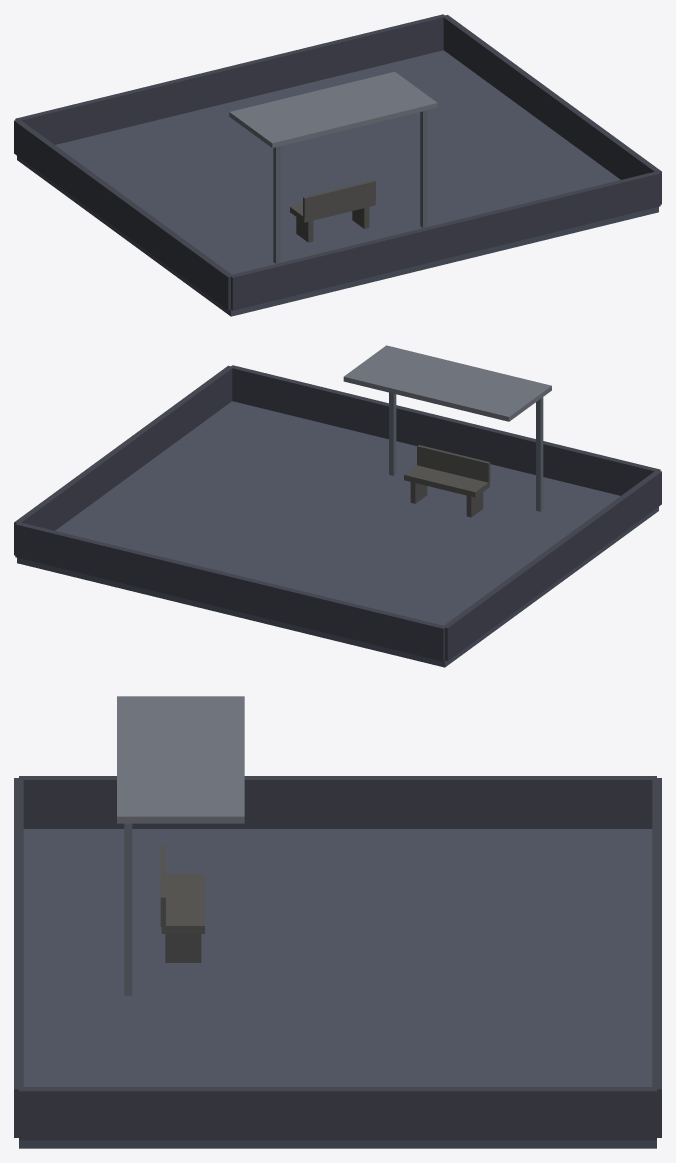
The model's file is paradaNocturna.obj.
The picture shows the model from 3 angles, top to bottom: view 1: azimuth 30°, elevation 25°; view 2: azimuth 150°, elevation 25°; view 3: azimuth 270°, elevation 25°; orthographic projection. The views are drawn at different scales.
Parts seen in each view (by area): view 1: paradaNocturna_c2_9, paradaNocturna_c2_13, paradaNocturna_c2_11, paradaNocturna_c2_10, paradaNocturna_c2_18, paradaNocturna_c2_12, paradaNocturna_c2_15, paradaNocturna_c2_20, paradaNocturna_c2_19, paradaNocturna_c2_14; view 2: paradaNocturna_c2_9, paradaNocturna_c2_11, paradaNocturna_c2_13, paradaNocturna_c2_10, paradaNocturna_c2_18, paradaNocturna_c2_12, paradaNocturna_c2_15, paradaNocturna_c2_14, paradaNocturna_c2_19, paradaNocturna_c2_20; view 3: paradaNocturna_c2_9, paradaNocturna_c2_12, paradaNocturna_c2_10, paradaNocturna_c2_18, paradaNocturna_c2_11, paradaNocturna_c2_13, paradaNocturna_c2_14, paradaNocturna_c2_20, paradaNocturna_c2_17.
Boxes of the visible parts, x1,y1,x2,y2 form: paradaNocturna_c2_9: (17,50,658,316); paradaNocturna_c2_13: (230,171,660,310); paradaNocturna_c2_11: (15,14,445,144); paradaNocturna_c2_10: (14,119,232,310); paradaNocturna_c2_18: (229,71,437,147); paradaNocturna_c2_12: (443,15,661,204); paradaNocturna_c2_15: (303,180,375,217); paradaNocturna_c2_20: (420,110,427,227); paradaNocturna_c2_19: (273,146,280,263); paradaNocturna_c2_14: (290,201,375,222); paradaNocturna_c2_9: (17,401,658,667); paradaNocturna_c2_11: (15,522,445,661); paradaNocturna_c2_13: (230,365,660,495); paradaNocturna_c2_10: (442,470,661,660); paradaNocturna_c2_18: (343,345,551,421); paradaNocturna_c2_12: (14,365,233,555); paradaNocturna_c2_15: (417,445,490,482); paradaNocturna_c2_14: (404,465,489,497); paradaNocturna_c2_19: (536,397,543,511); paradaNocturna_c2_20: (389,392,396,475); paradaNocturna_c2_9: (19,829,656,1148); paradaNocturna_c2_12: (19,1087,656,1140); paradaNocturna_c2_10: (19,776,656,828); paradaNocturna_c2_18: (117,696,244,823); paradaNocturna_c2_11: (652,778,661,1137); paradaNocturna_c2_13: (14,778,23,1137); paradaNocturna_c2_14: (161,874,204,933); paradaNocturna_c2_20: (124,823,132,995); paradaNocturna_c2_17: (165,934,201,962).
Size of the model in its own units: 15.2 by 4.39 by 13.2.
